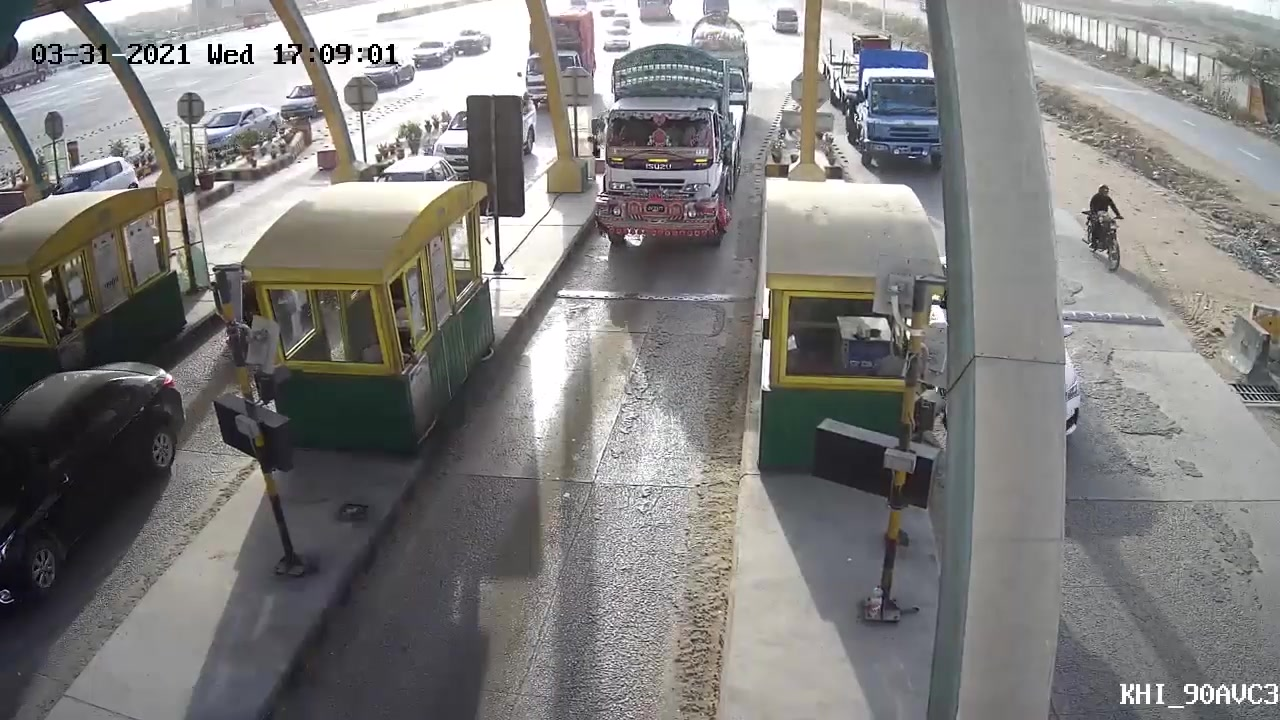F5: (574, 42, 743, 251)
